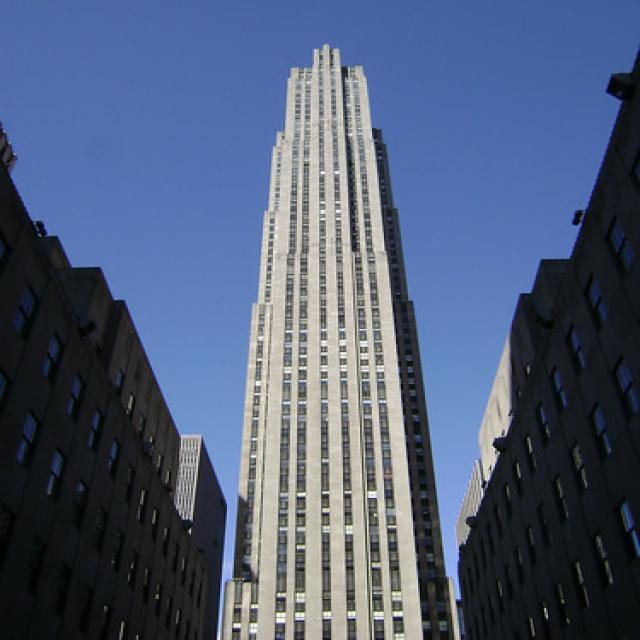Normal_building: (217, 39, 470, 640)
